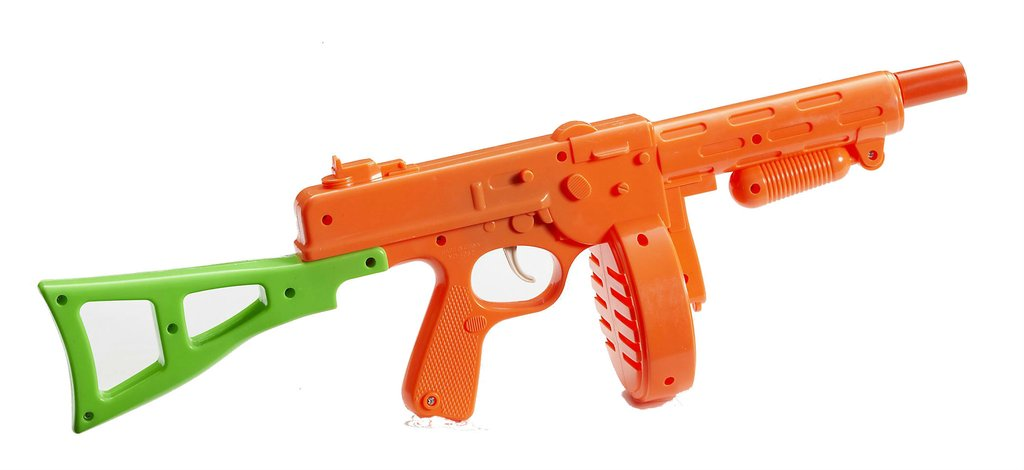Arma Falsa: (39, 57, 969, 434)
